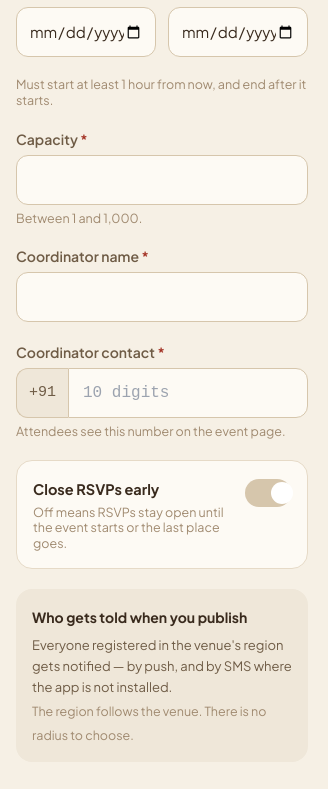
CreateEventPage › reveals the RSVP cut-off field only once the toggle is on
The image size is (328, 789).
(page scrolled)
Expected: the field labelled "rsvp cut-off" is not shown
Click the switch named "close rsvps early": x=268, y=493 [245, 479, 291, 507]
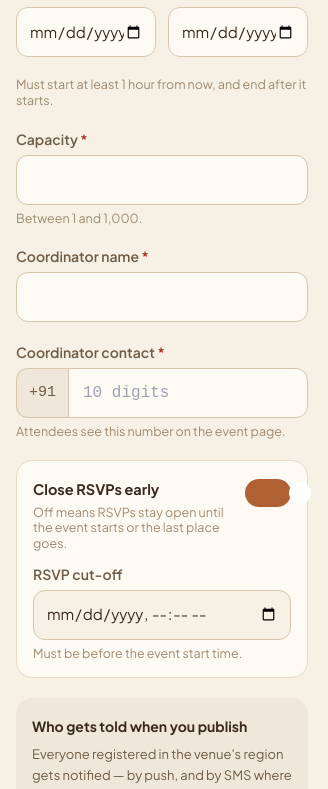
Now the field labelled "RSVP cut-off" is shown, box [33, 590, 291, 640]
